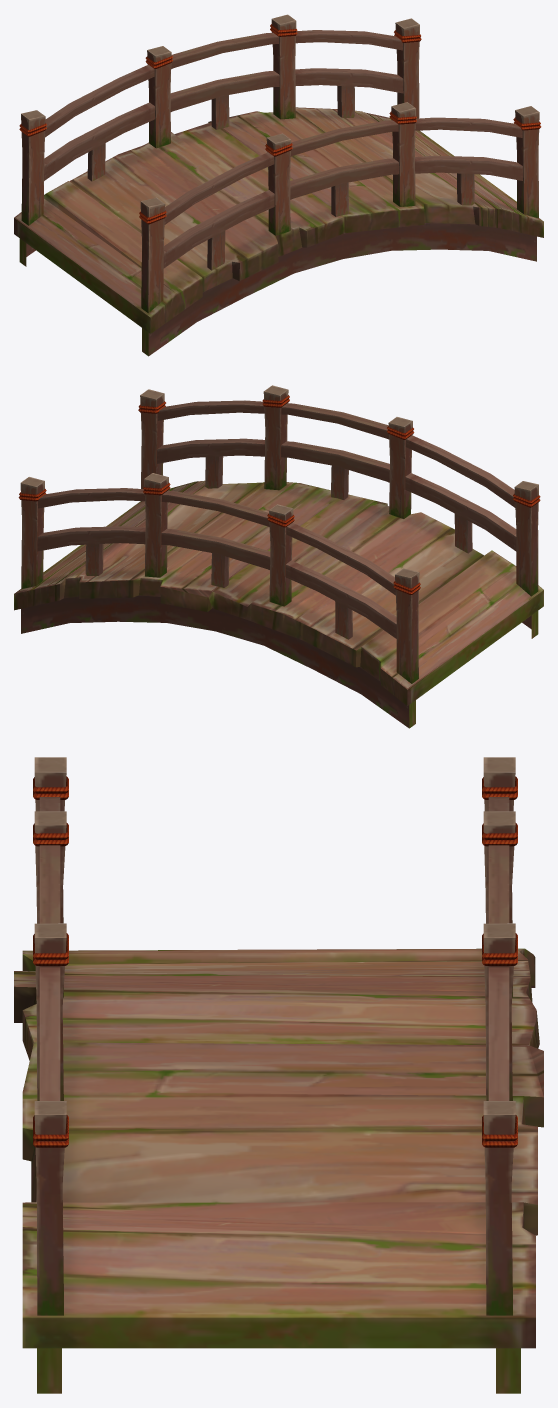
The picture shows the model from 3 angles, top to bottom: view 1: azimuth 30°, elevation 25°; view 2: azimuth 150°, elevation 25°; view 3: azimuth 270°, elevation 25°; orthographic projection. The views are drawn at different scales.
Parts seen in each view (by area): view 1: wq_jz008_04_c; view 2: wq_jz008_04_c; view 3: wq_jz008_04_c.
Boxes of the visible parts, box(x1,y1,x2,y2) form: wq_jz008_04_c: box(14, 14, 543, 356); wq_jz008_04_c: box(14, 385, 543, 728); wq_jz008_04_c: box(14, 757, 543, 1393).
Bounding box in the file's own units: 389 × 173 × 241.
1 material, 1 textured.
